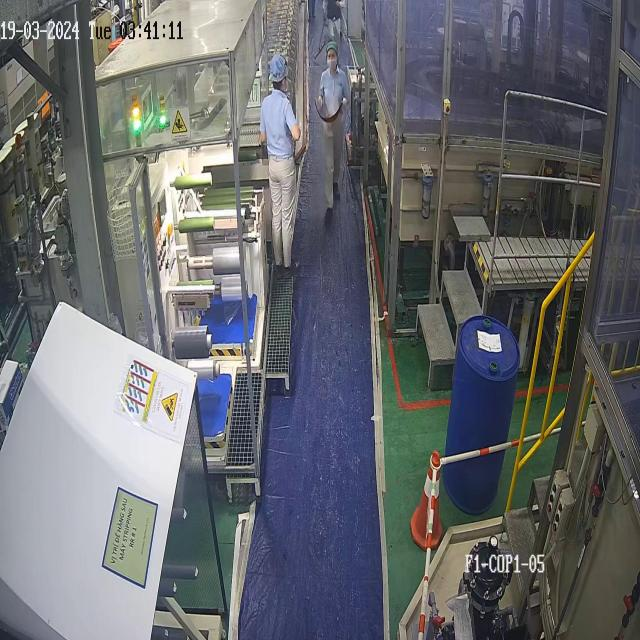Person: (258, 54, 301, 276), (316, 40, 350, 216)
